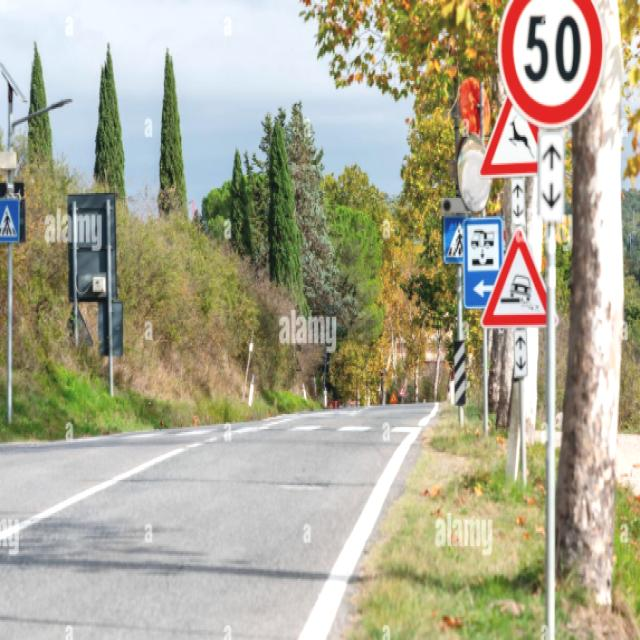speed_50: (498, 0, 605, 129)
